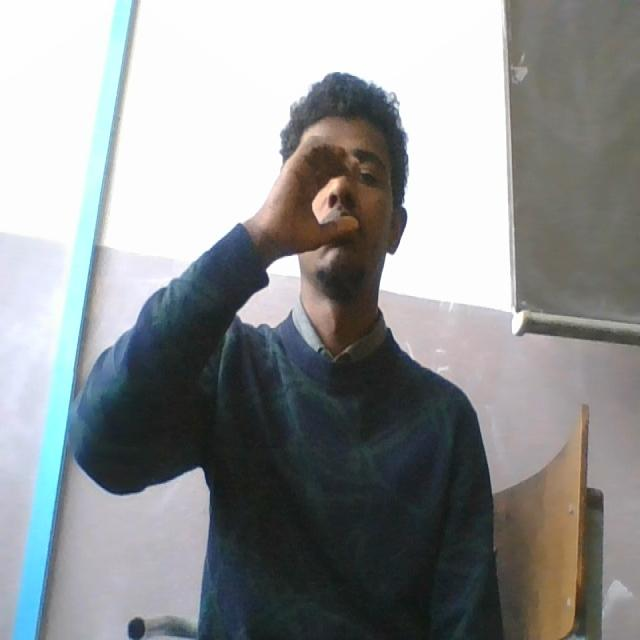metetat: (263, 132, 396, 254)
